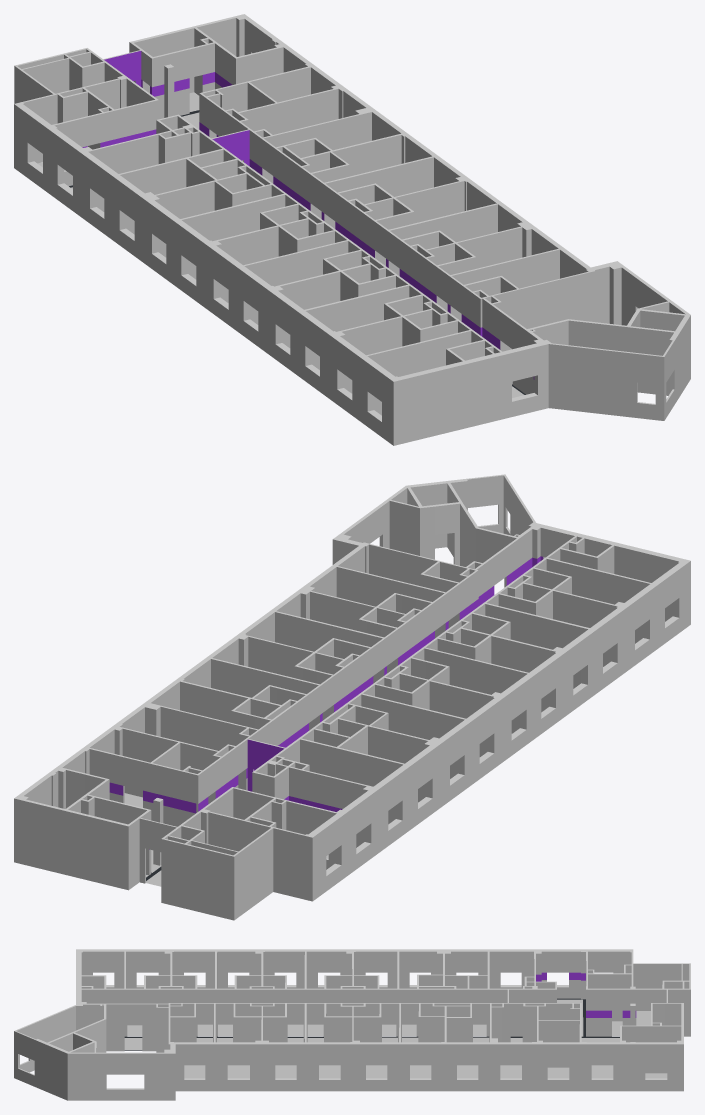
Rendered from Palata3Block.fbx.
The picture shows the model from 3 angles, top to bottom: view 1: azimuth 30°, elevation 25°; view 2: azimuth 150°, elevation 25°; view 3: azimuth 270°, elevation 25°; orthographic projection. The views are drawn at different scales.
Visible parts, largest first — view 1: Plane; view 2: Plane; view 3: Plane.
Boxes of the visible parts, left/top/right/bottom form: Plane: left=14, top=14, right=690, bottom=445; Plane: left=14, top=474, right=690, bottom=920; Plane: left=14, top=949, right=690, bottom=1100.
Size of the model in its own units: 2005 by 421 by 5491.
